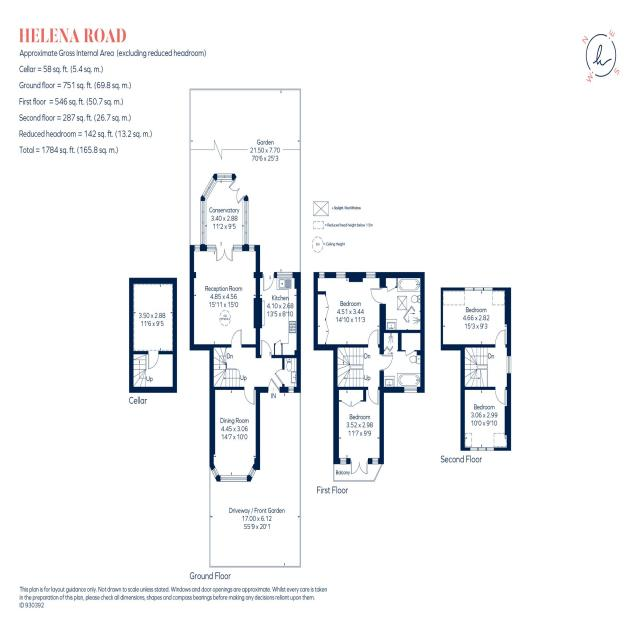DOOR: (370, 286, 386, 305), (262, 272, 275, 291), (379, 354, 393, 371), (494, 329, 506, 348), (367, 329, 379, 348), (243, 386, 255, 405), (367, 387, 379, 405), (231, 329, 242, 348), (267, 377, 280, 393), (495, 387, 506, 405), (261, 340, 272, 358), (274, 368, 285, 385)
DOUBLE DOOR: (227, 176, 247, 205), (350, 458, 368, 475), (215, 244, 233, 261)
FOLDING DOOR: (383, 346, 398, 352)
ROOM: (189, 245, 262, 351), (313, 271, 386, 351), (209, 386, 260, 482), (333, 387, 384, 475), (440, 287, 511, 350), (253, 271, 301, 359), (460, 387, 511, 451)
WINDOW: (200, 173, 233, 246), (242, 199, 249, 245), (220, 475, 247, 482), (248, 466, 256, 479), (276, 272, 293, 278), (211, 467, 219, 479), (506, 355, 511, 374), (404, 386, 417, 393), (336, 271, 346, 279), (366, 271, 376, 279), (207, 244, 216, 252), (233, 245, 242, 251), (372, 458, 379, 465), (340, 458, 347, 464), (319, 272, 325, 279), (288, 386, 294, 393), (194, 245, 200, 252), (249, 244, 255, 251), (483, 287, 493, 291), (465, 287, 474, 291), (474, 287, 483, 291), (470, 447, 478, 451), (478, 447, 486, 451), (486, 447, 494, 451)
